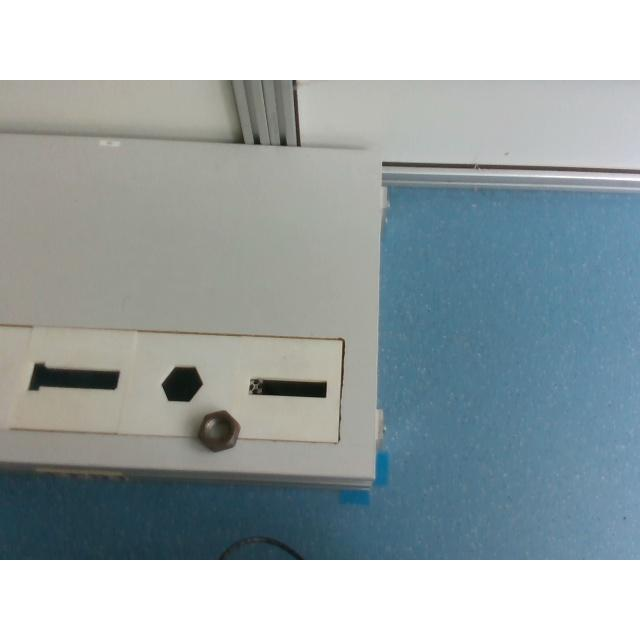M30: (198, 410, 240, 452)
